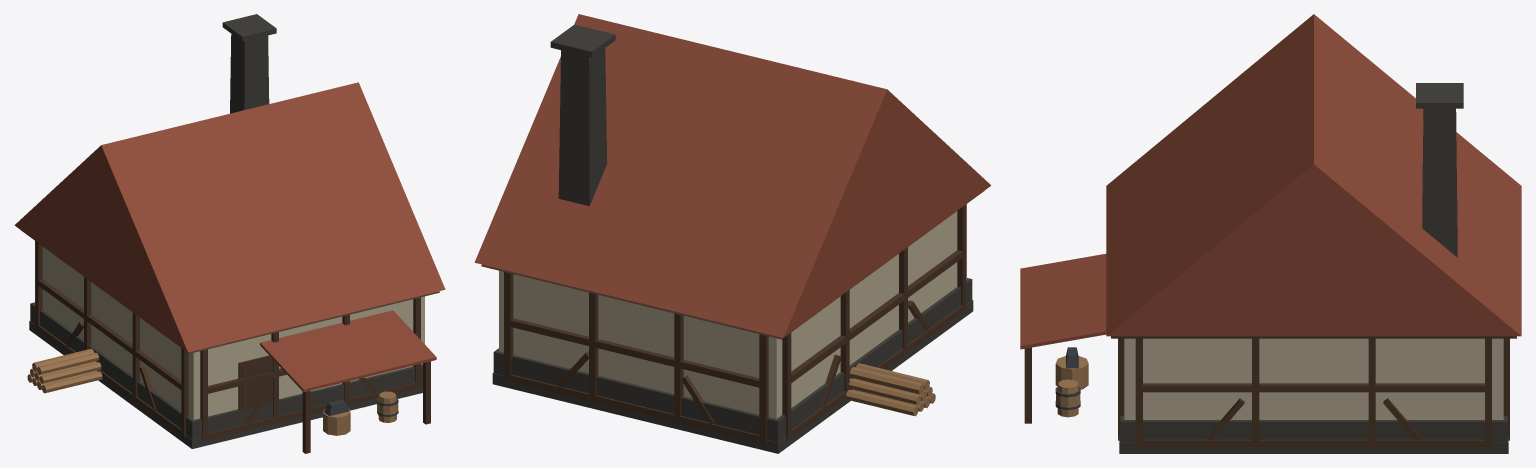
Rendered from blacksmith.glb.
The picture shows the model from 3 angles, left to right: view 1: azimuth 30°, elevation 25°; view 2: azimuth 150°, elevation 25°; view 3: azimuth 270°, elevation 25°; orthographic projection. The views are drawn at different scales.
Parts seen in each view (by area): view 1: blacksmith_lod0; view 2: blacksmith_lod0; view 3: blacksmith_lod0.
Part boxes in pixels (bbox=[...]): blacksmith_lod0: bbox=[14, 14, 445, 453]; blacksmith_lod0: bbox=[474, 14, 990, 453]; blacksmith_lod0: bbox=[1020, 14, 1521, 453].
Size of what is drawn, in the model's own units: 10.55 by 9.21 by 12.55.
